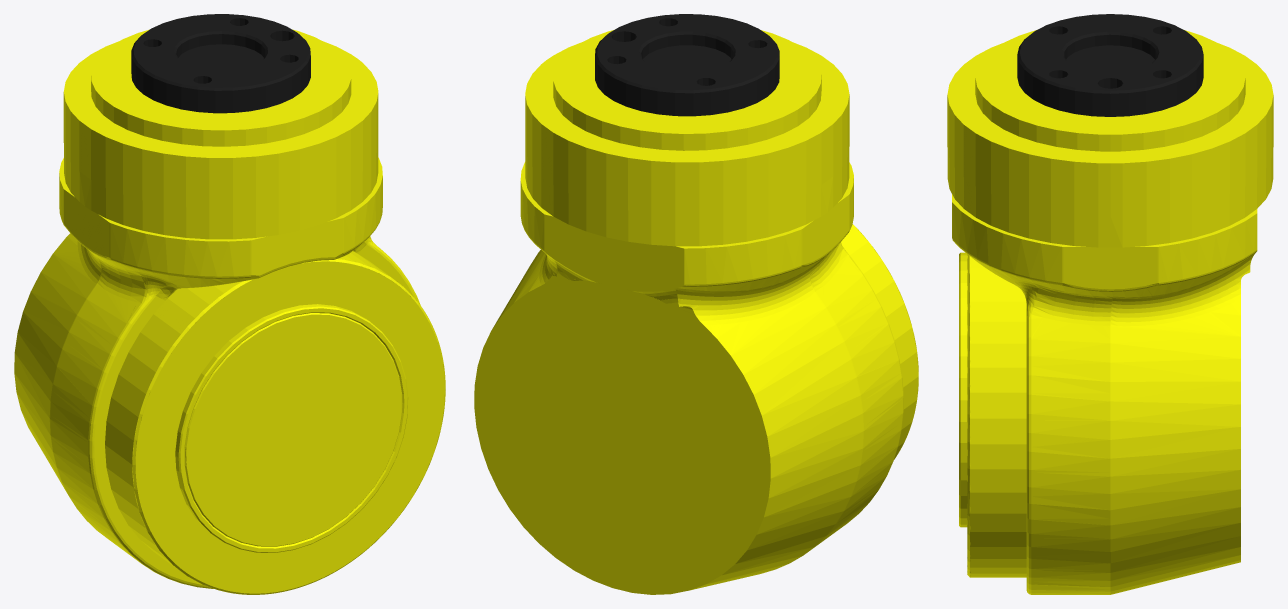
3 renders of one model, left to right at view 1: azimuth 30°, elevation 25°; view 2: azimuth 150°, elevation 25°; view 3: azimuth 270°, elevation 25°, orthographic. The views are drawn at different scales.
Parts seen in each view (by area): view 1: node; view 2: node; view 3: node.
Part boxes in pixels (box(x1,y1,x2,y2)): node: box(14, 14, 445, 594); node: box(474, 14, 918, 594); node: box(947, 14, 1273, 594).
Size of the model in its own units: 88 by 124 by 70.
